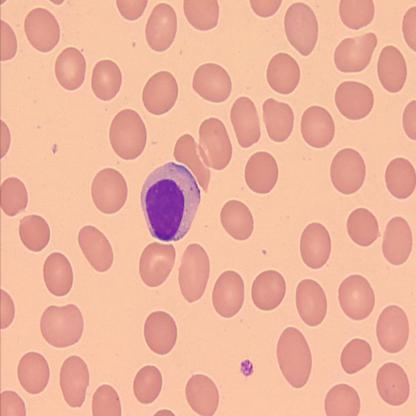Atypical lymphocyte: (140, 158, 200, 241)
